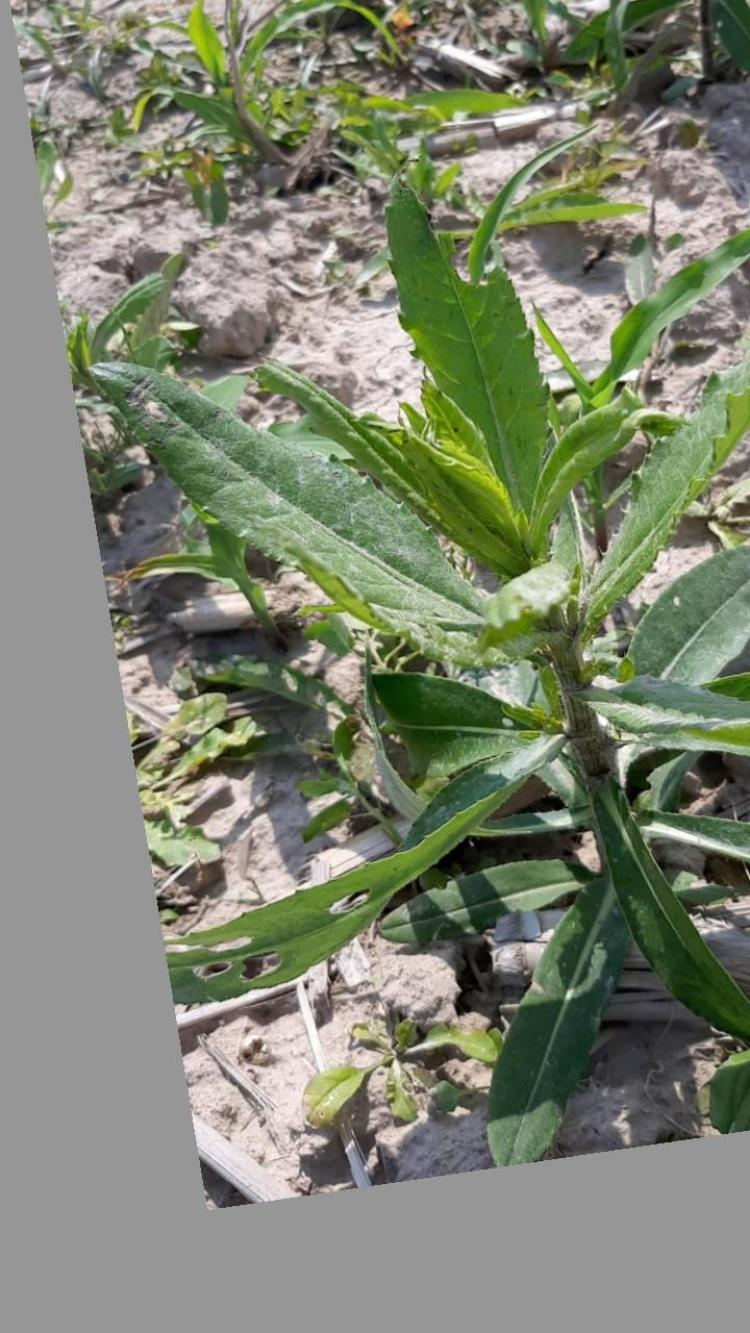osot: (98, 186, 750, 1170)
